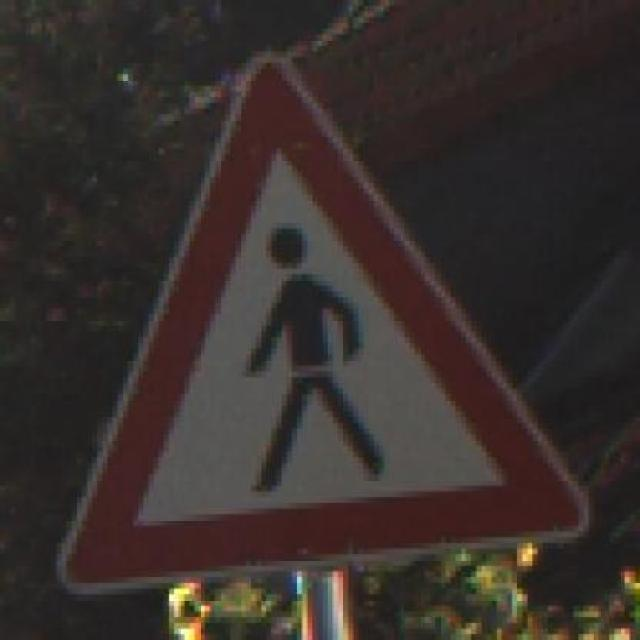Pedestrian Crossing: (51, 40, 594, 600)
